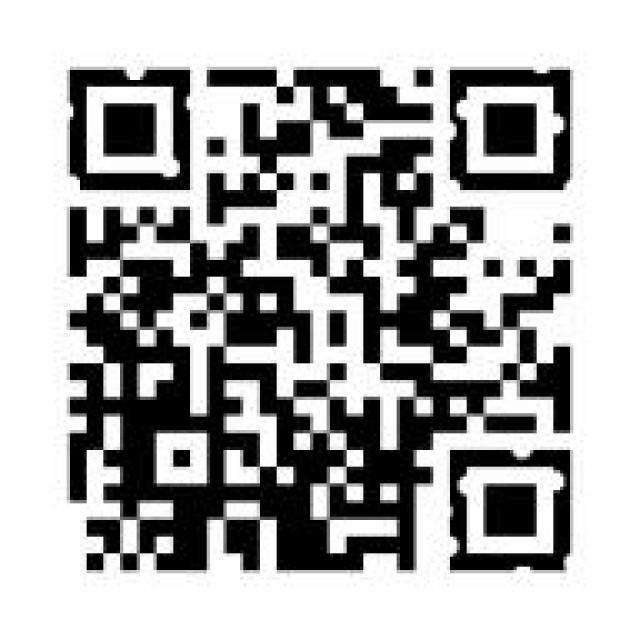QR_CODE: (49, 56, 594, 586)
